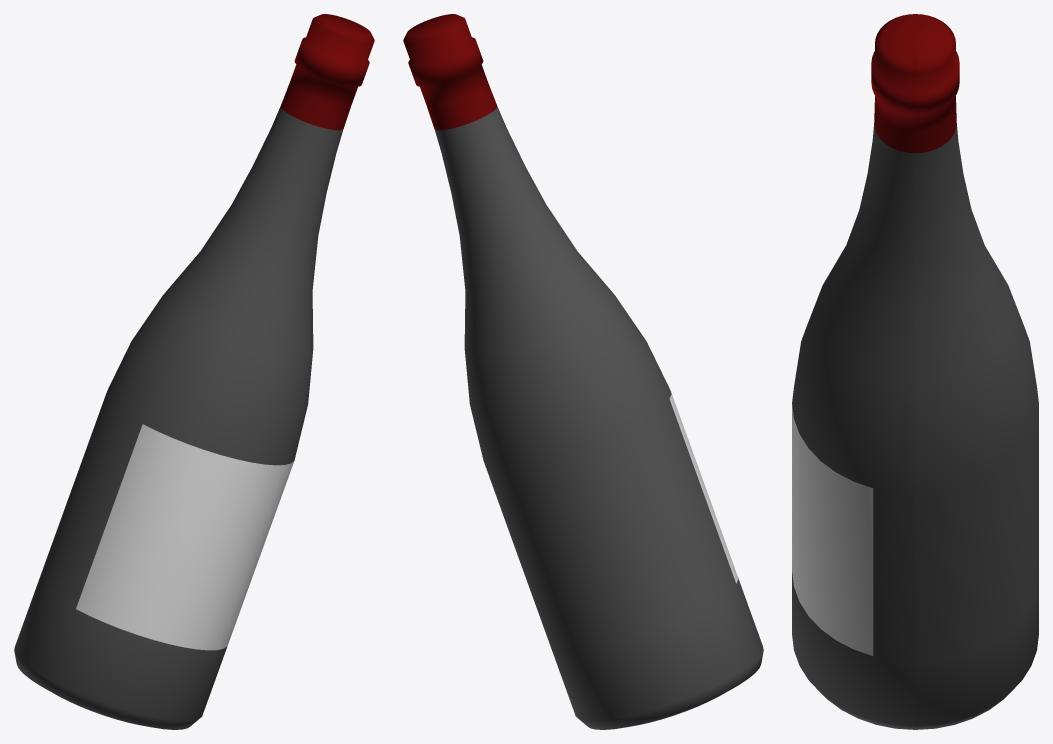
File: bottle.glb
The picture shows the model from 3 angles, left to right: view 1: azimuth 30°, elevation 25°; view 2: azimuth 150°, elevation 25°; view 3: azimuth 270°, elevation 25°; orthographic projection. The views are drawn at different scales.
Parts seen in each view (by area): view 1: Plane; view 2: Plane; view 3: Plane.
Part boxes in pixels (x1,y1,x2,y2): Plane: (14,14,374,729); Plane: (403,14,763,729); Plane: (792,14,1038,729).
Size of the model in its own units: 1.63 by 2.96 by 0.8251.
